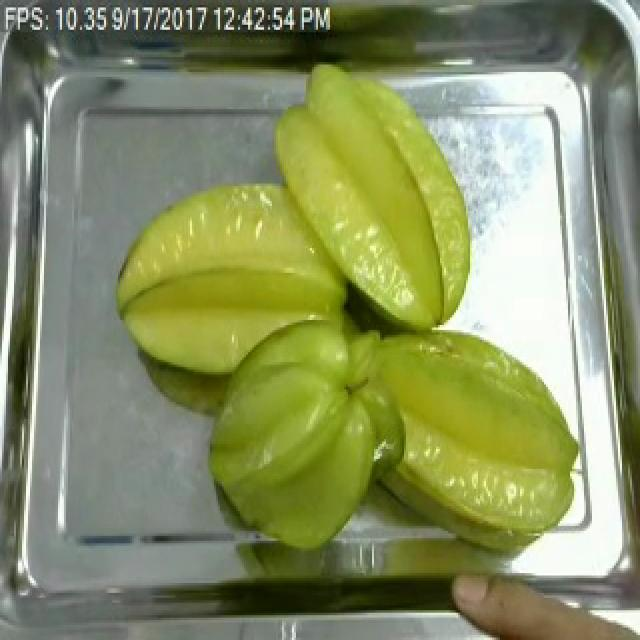fruit: (258, 52, 480, 342), (104, 174, 368, 387), (352, 320, 592, 553), (196, 338, 392, 566), (436, 563, 638, 640)
